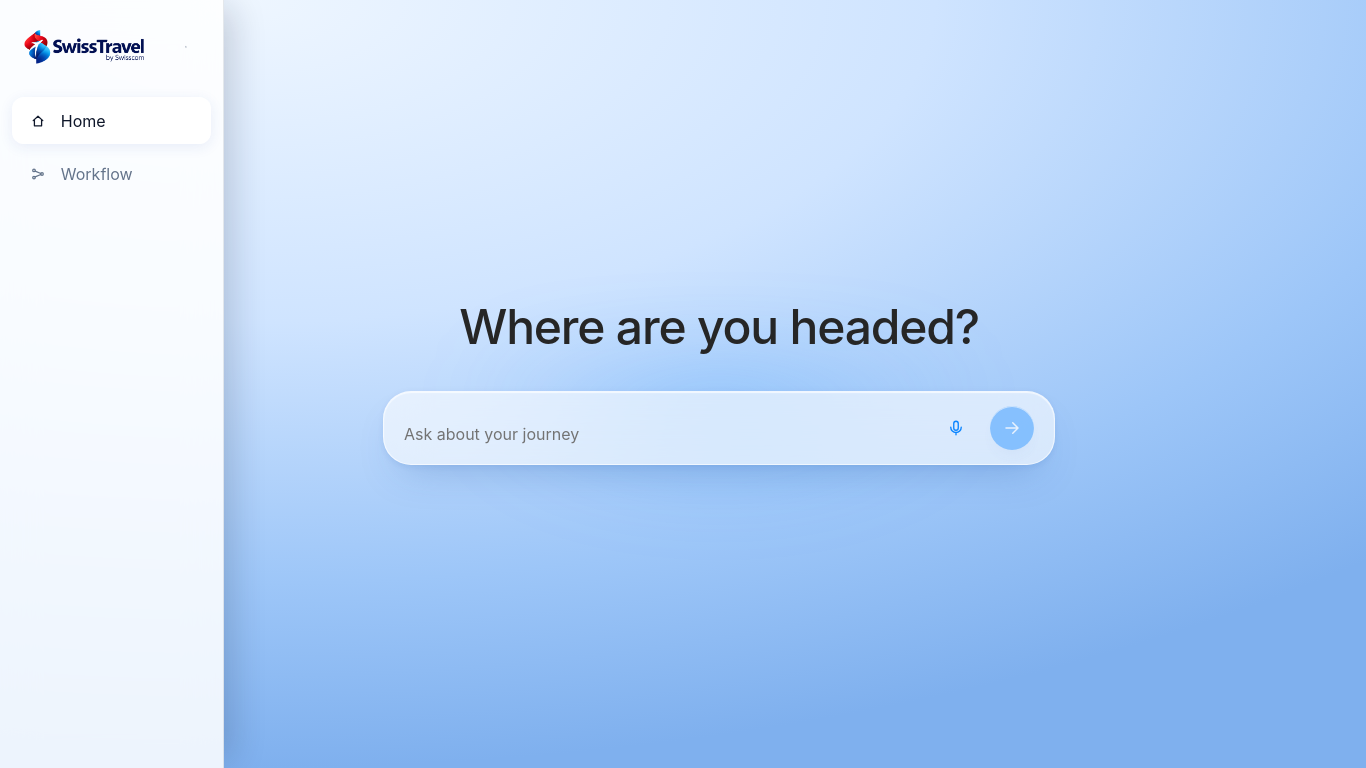
Scenario: App › re-enables the composer and shows an error turn when the stream fails
Type "hi" into the text box with placeholder "Ask about your journey" at (663, 434), box [404,418,922,450]
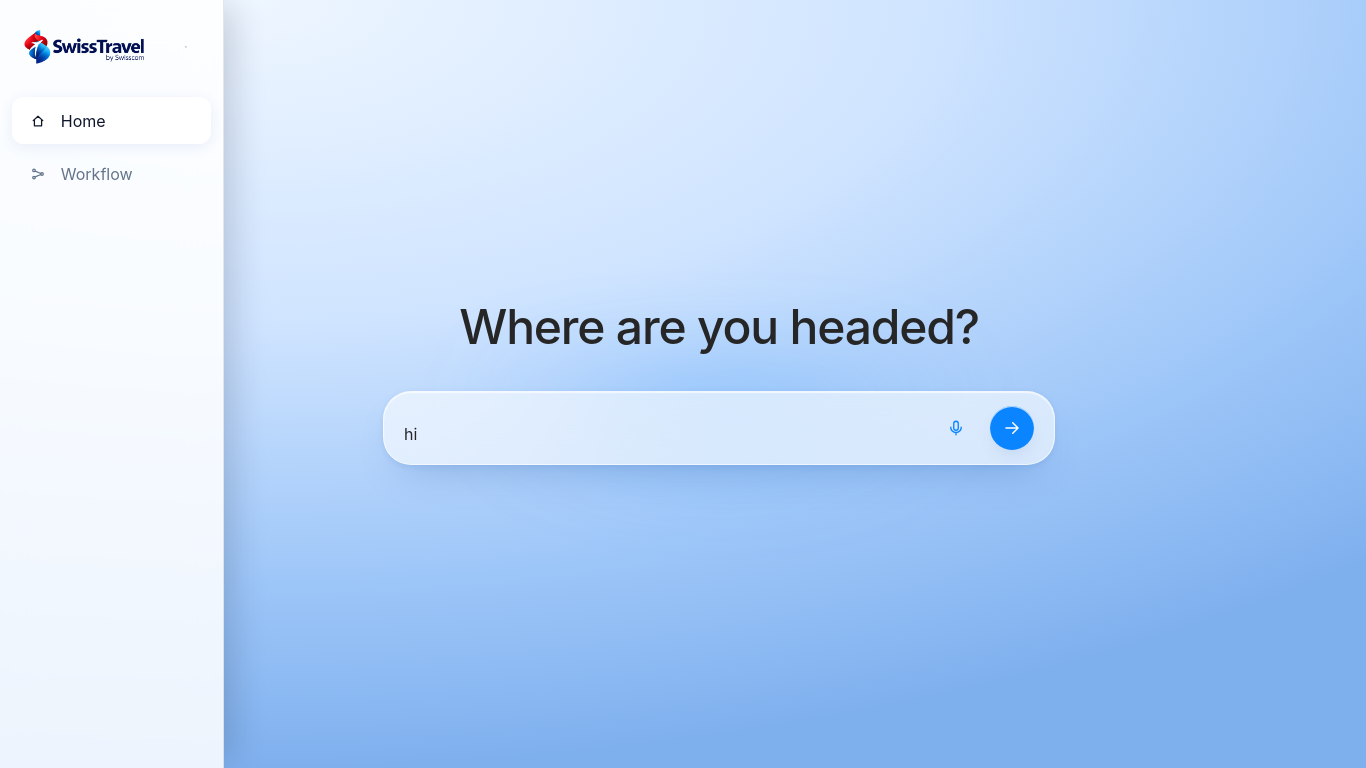
Submit the form with placeholder "ask about your journey", box [383,391,1055,465]
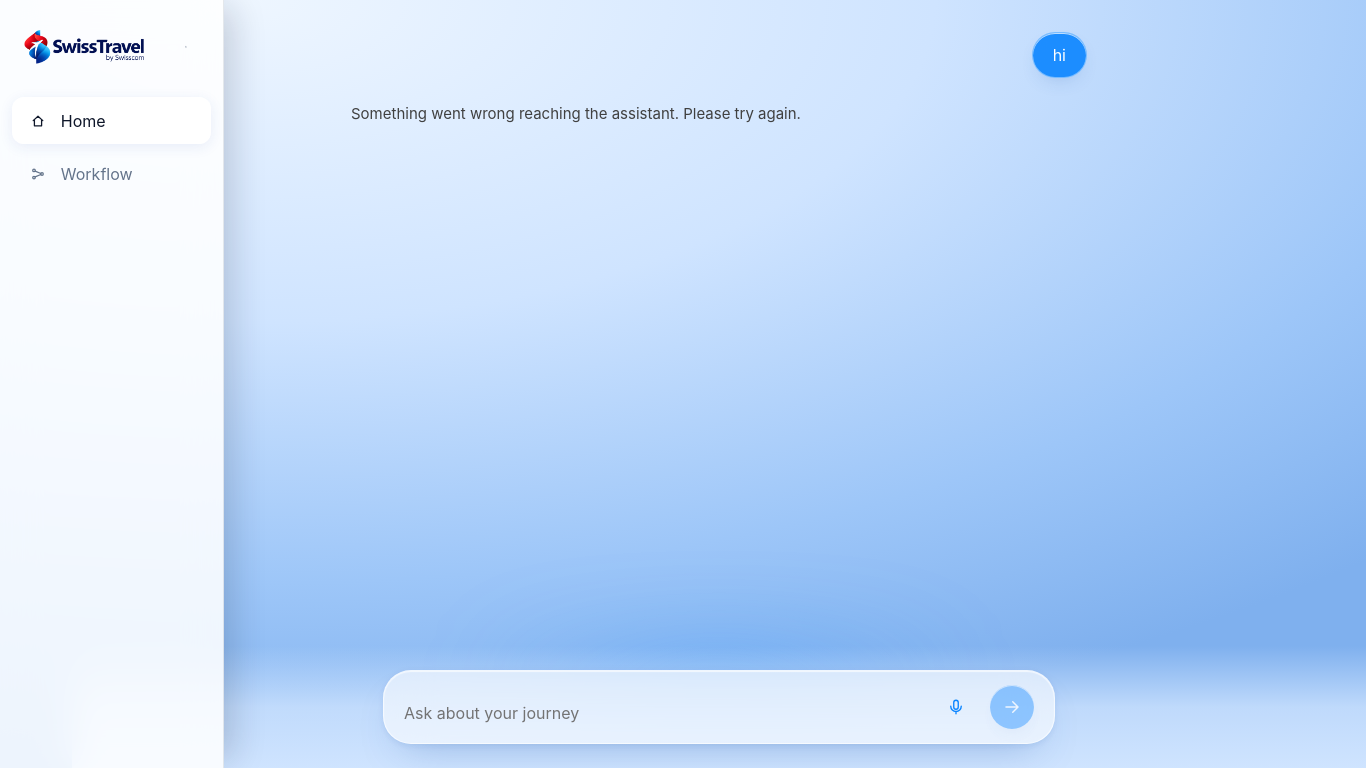
Expected: the text box with placeholder "Ask about your journey" is enabled, [404,697,922,729]
Now the text "Something went wrong" is shown, box [351,104,801,123]
